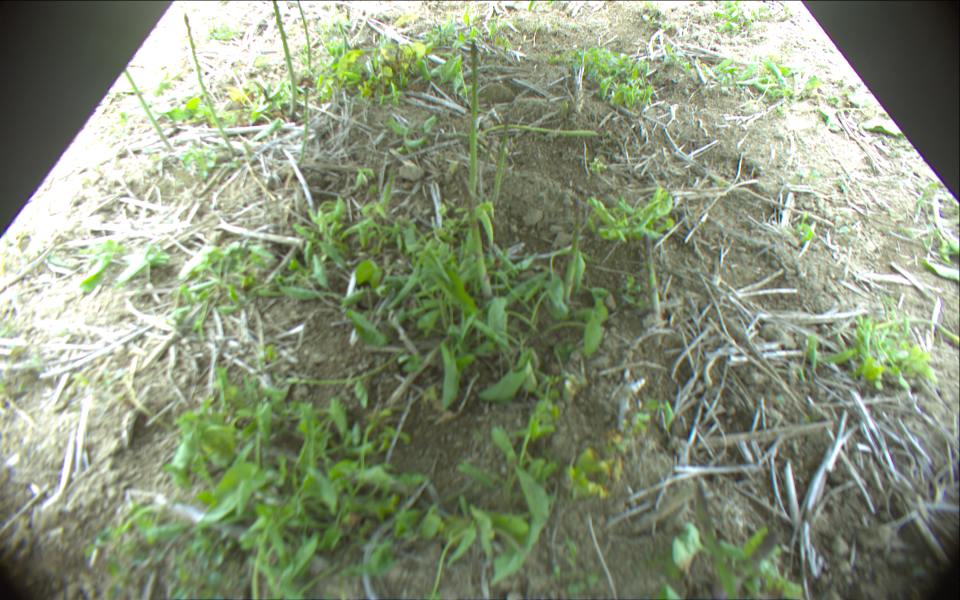aspa: (183, 13, 235, 152), (125, 70, 180, 152), (269, 1, 297, 113), (561, 196, 584, 305), (489, 113, 512, 202), (467, 40, 479, 200), (644, 230, 663, 320), (476, 123, 598, 134), (295, 1, 313, 70), (300, 85, 310, 166)
